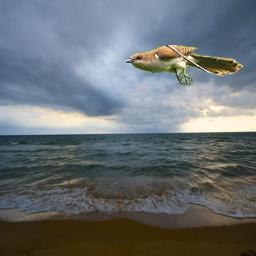Cuckoo: (124, 45, 243, 87)
